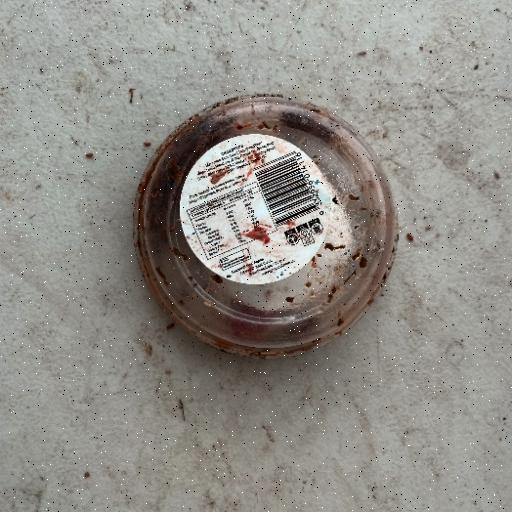Plastic: (130, 90, 400, 360)
